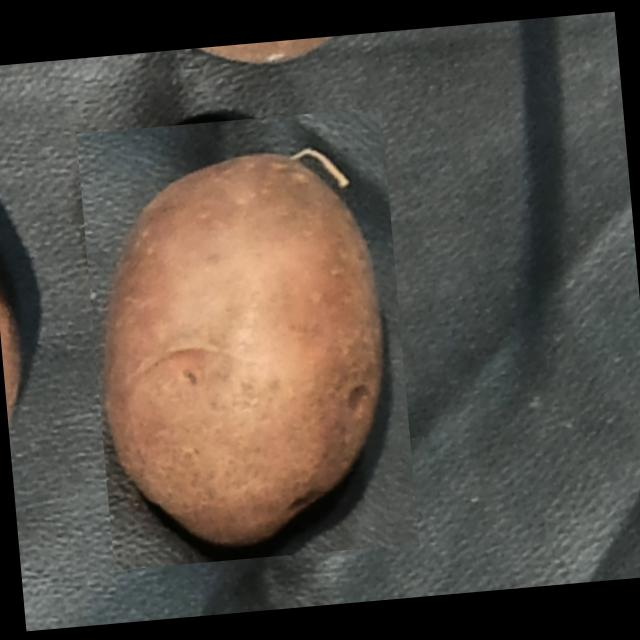Defected potato: (76, 106, 418, 569)
